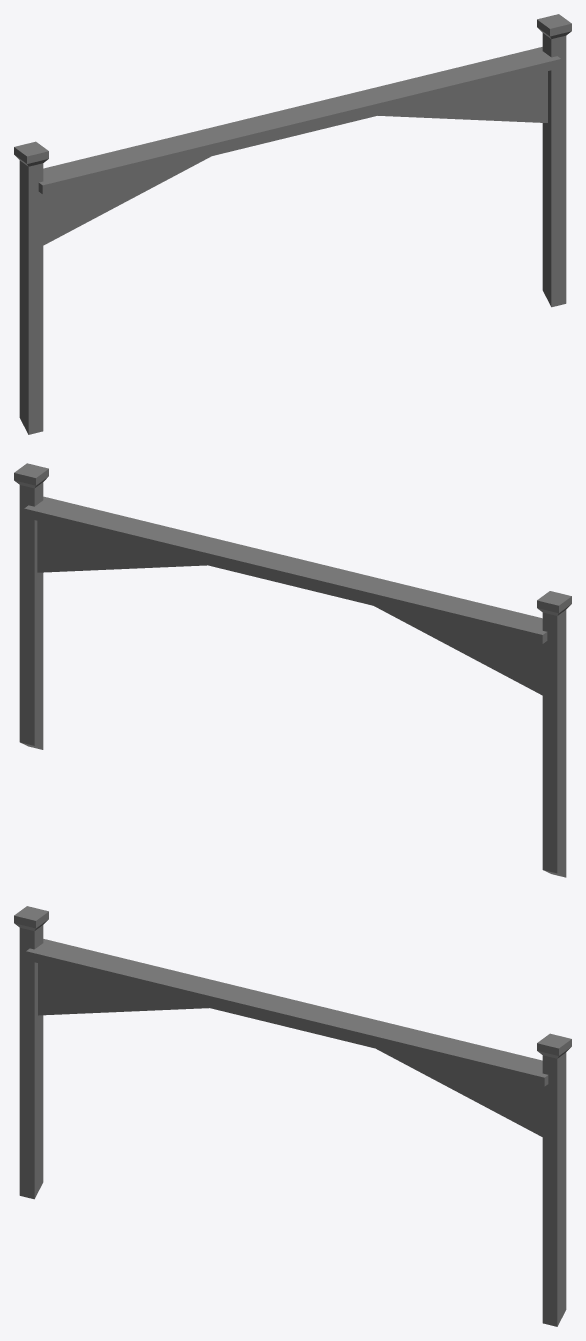
Rendered from tesla_modules1_exterior_railing_01.dae.
The picture shows the model from 3 angles, top to bottom: view 1: azimuth 30°, elevation 25°; view 2: azimuth 150°, elevation 25°; view 3: azimuth 330°, elevation 25°; orthographic projection.
Parts seen in each view (by area): view 1: polySurface306; view 2: polySurface306; view 3: polySurface306.
Boxes of the visible parts, box(x1,y1,x2,y2) form: polySurface306: box(14, 14, 571, 434); polySurface306: box(14, 463, 571, 877); polySurface306: box(14, 906, 571, 1326).
Bounding box in the file's own units: 2616 × 1288 × 142.
